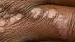plaque psoriasis: (30, 7, 73, 39), (0, 13, 23, 32), (0, 0, 3, 14)
